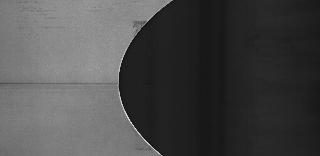welding line: (0, 78, 126, 92)
